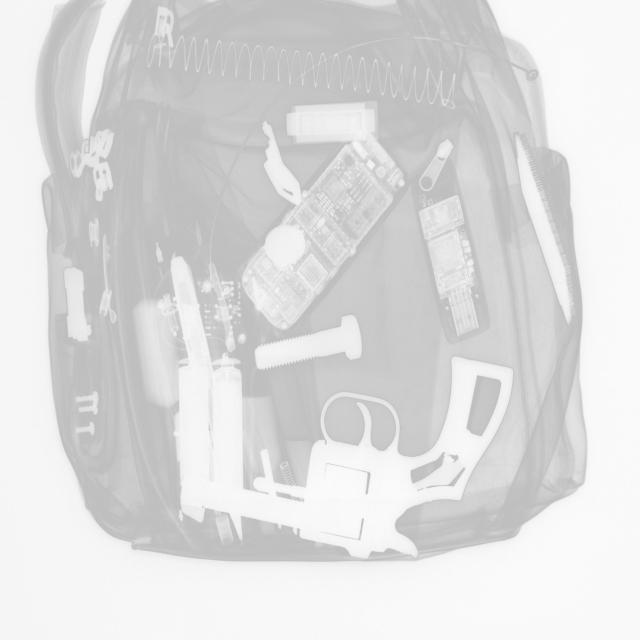pistol: (203, 356, 516, 558)
